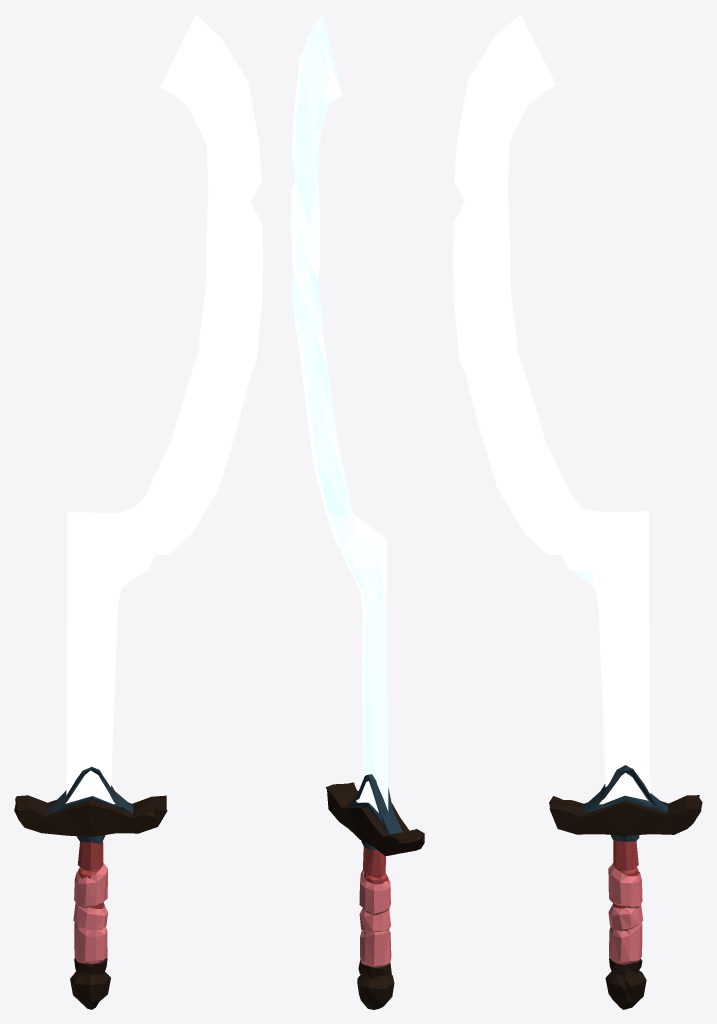
File: SFFA_Weapon_Sword_Runical_004.fbx
The picture shows the model from 3 angles, left to right: view 1: azimuth 90°, elevation 25°; view 2: azimuth 210°, elevation 25°; view 3: azimuth 270°, elevation 25°; orthographic projection. The views are drawn at different scales.
Visible parts, largest first — view 1: SFFA_Weapon_Sword_Runical_004; view 2: SFFA_Weapon_Sword_Runical_004; view 3: SFFA_Weapon_Sword_Runical_004.
Part boxes in pixels (x1,y1,x2,y2): SFFA_Weapon_Sword_Runical_004: [14, 14, 262, 1009]; SFFA_Weapon_Sword_Runical_004: [291, 14, 424, 1009]; SFFA_Weapon_Sword_Runical_004: [453, 14, 702, 1009].
Bounding box in the file's own units: 3.91 × 106 × 24.05.
